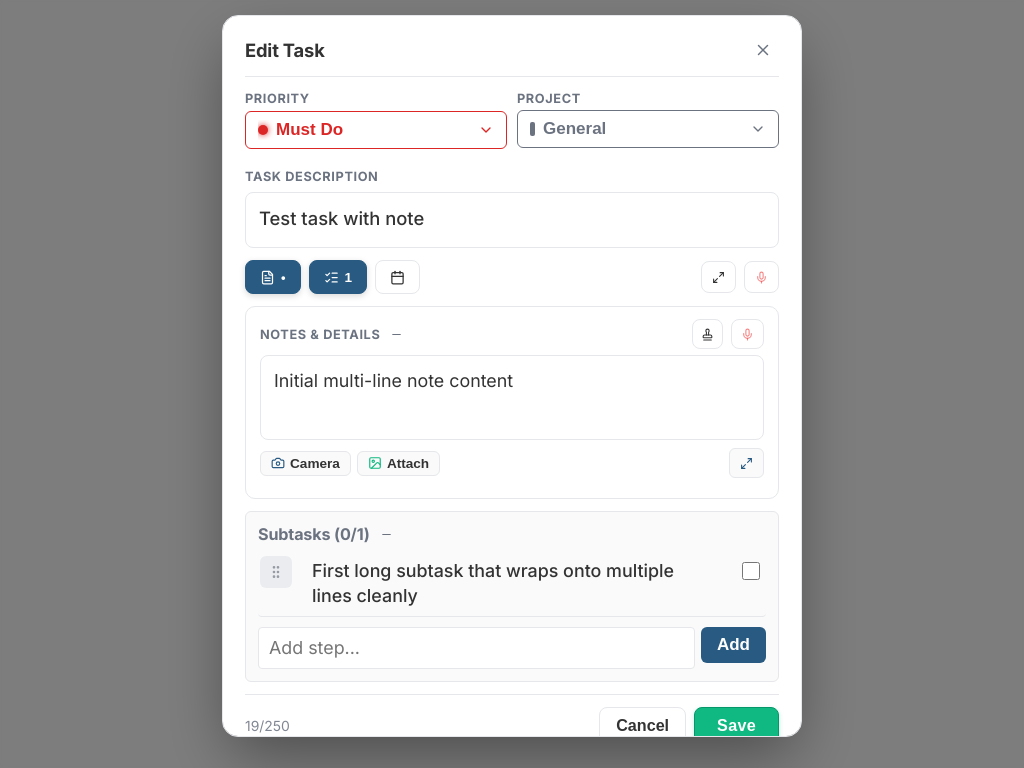
it: EditModal › contracts and expands notes when Notes button is clicked
expect the field with placeholder "Add notes or extra details..." is shown: met, box [260, 355, 764, 440]
Note: Click Notes button to contract
Click the button named "Notes": click(273, 277) [245, 260, 301, 294]
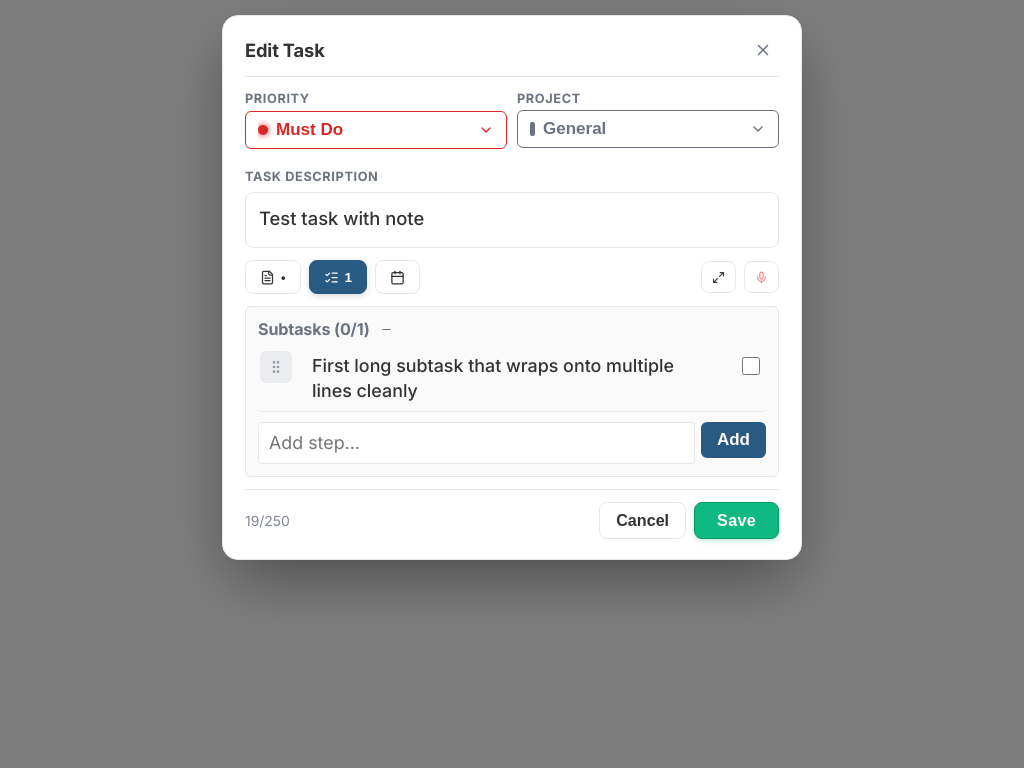
Note: Click Notes button again to re-expand
Click the button named "Notes": click(273, 277) [245, 260, 301, 294]
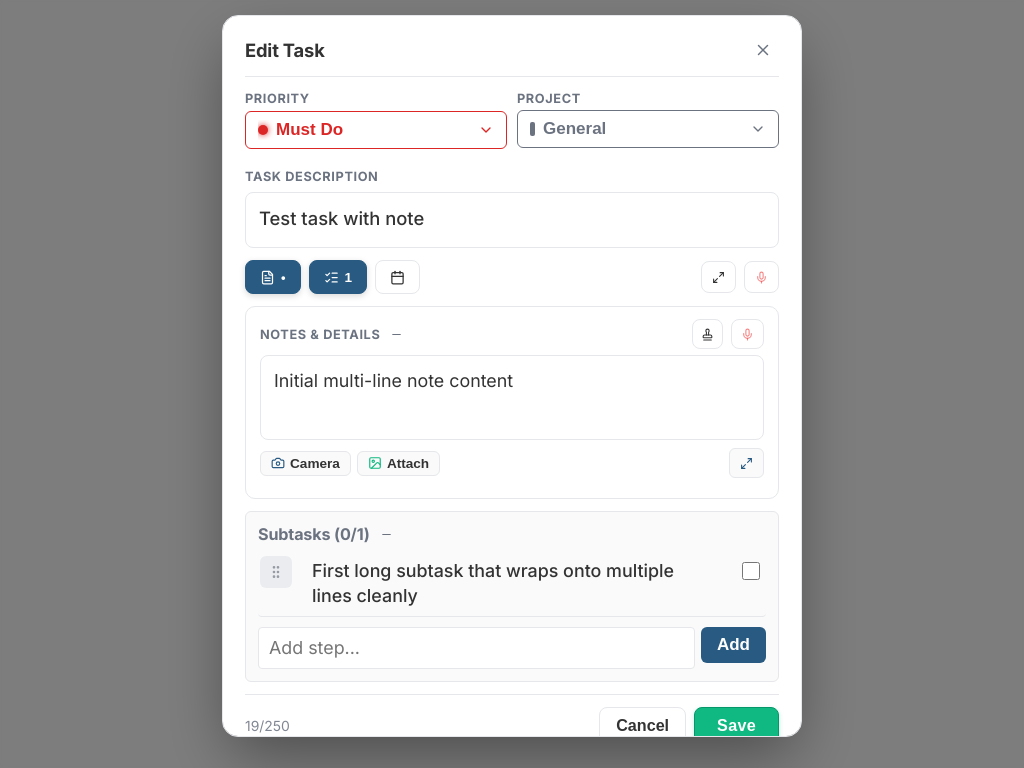
expect the field with placeholder "Add notes or extra details..." is shown: met, box [260, 355, 764, 440]
